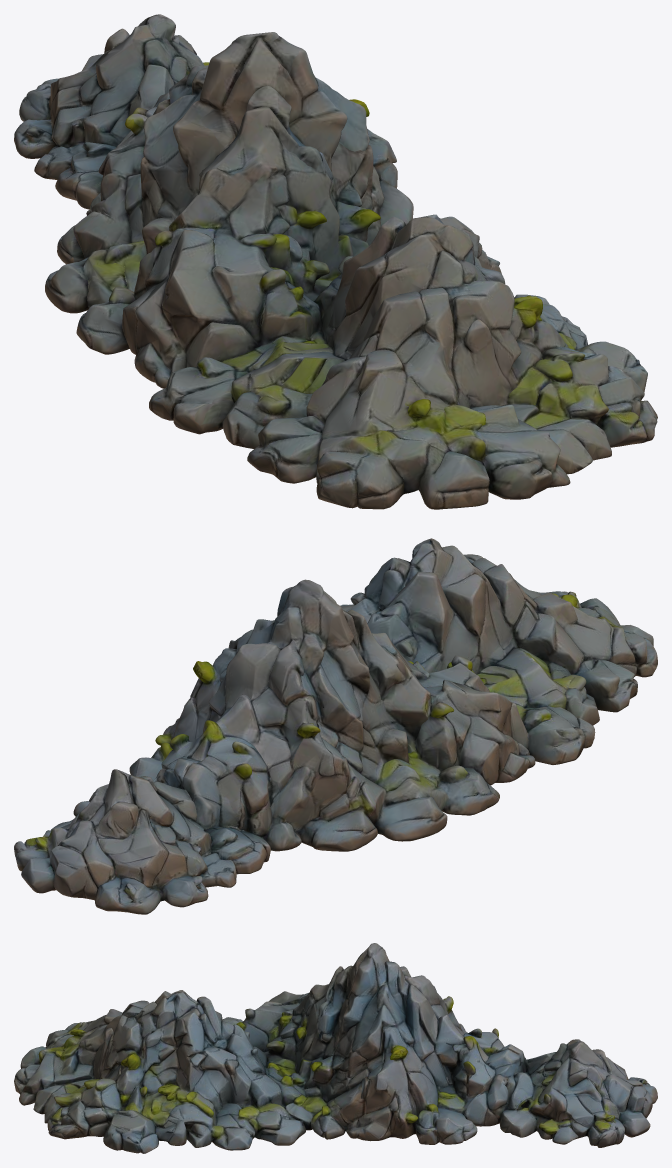
3 views of the same model, one above another, from view 1: azimuth 30°, elevation 25°; view 2: azimuth 150°, elevation 25°; view 3: azimuth 270°, elevation 25° (orthographic). The views are drawn at different scales.
Visible parts, largest first — view 1: tripo_node_5eff271c-74c2-47d9-a038-3ef0a302b1a1; view 2: tripo_node_5eff271c-74c2-47d9-a038-3ef0a302b1a1; view 3: tripo_node_5eff271c-74c2-47d9-a038-3ef0a302b1a1.
Boxes of the visible parts, x1,y1,x2,y2 form: tripo_node_5eff271c-74c2-47d9-a038-3ef0a302b1a1: (14, 14, 657, 509); tripo_node_5eff271c-74c2-47d9-a038-3ef0a302b1a1: (14, 538, 657, 914); tripo_node_5eff271c-74c2-47d9-a038-3ef0a302b1a1: (14, 943, 657, 1153).
Bounding box in the file's own units: 0.4462 × 0.262 × 0.9999.
Materials: 1 (1 with a texture image).
